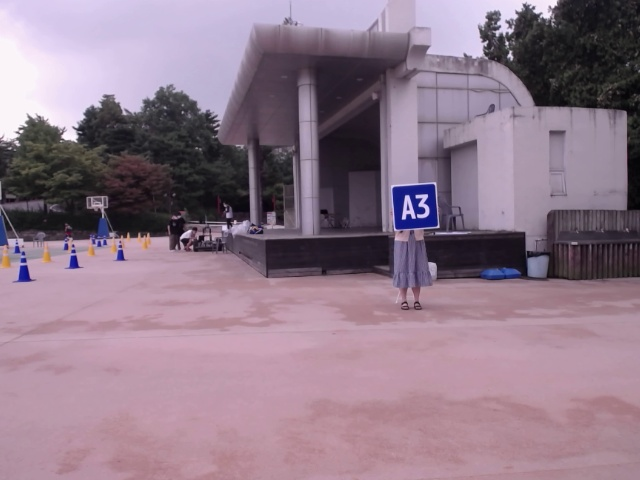delivery_a3: (392, 183, 439, 230)
